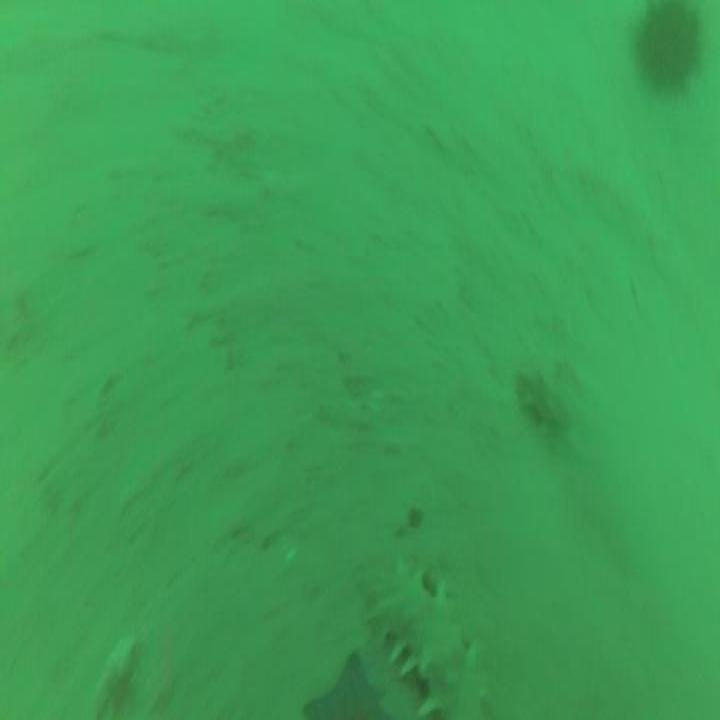echinus: (636, 7, 694, 89)
holothurian: (372, 576, 485, 720), (521, 366, 561, 439)
